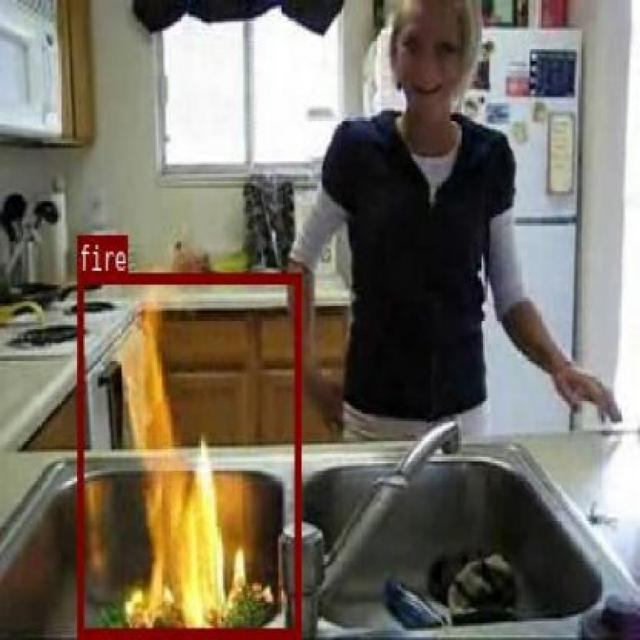Fire: (188, 363, 222, 454)
